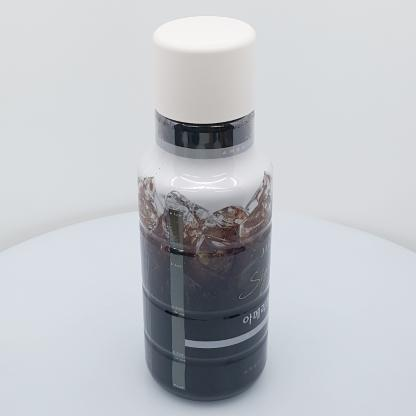-------------1-1L: (137, 16, 274, 401)
